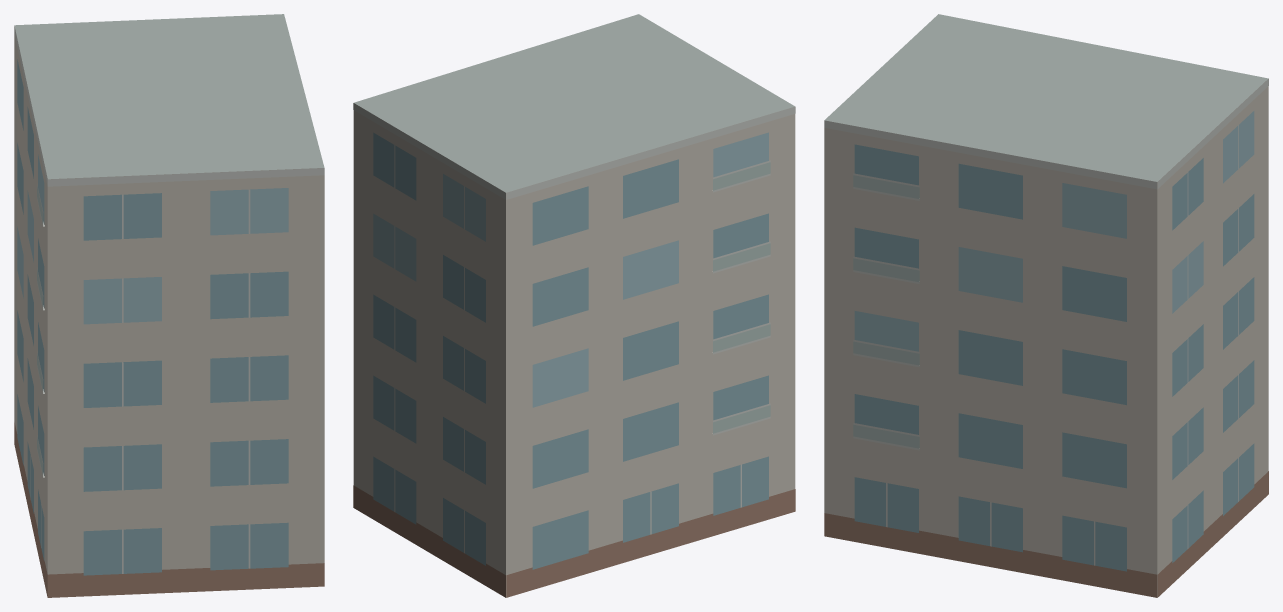
File: survey-upis-32997932.glb
The picture shows the model from 3 angles, left to right: view 1: azimuth 30°, elevation 25°; view 2: azimuth 150°, elevation 25°; view 3: azimuth 270°, elevation 25°; orthographic projection. The views are drawn at different scales.
Parts seen in each view (by area): view 1: survey-upis-32997932.tmp; view 2: survey-upis-32997932.tmp; view 3: survey-upis-32997932.tmp.
Part boxes in pixels (x1,y1,x2,y2): survey-upis-32997932.tmp: (14, 14, 324, 597); survey-upis-32997932.tmp: (353, 14, 795, 597); survey-upis-32997932.tmp: (824, 14, 1268, 597).
Bounding box in the file's own units: 11.88 × 13.7 × 13.28.
